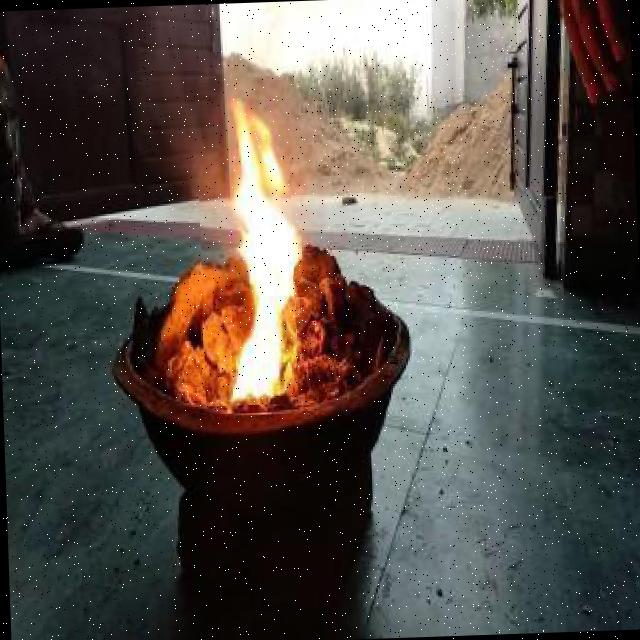fire: (195, 75, 298, 406)
